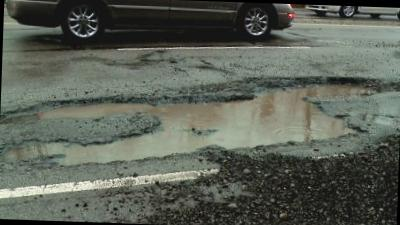pothole: (0, 62, 399, 193)
